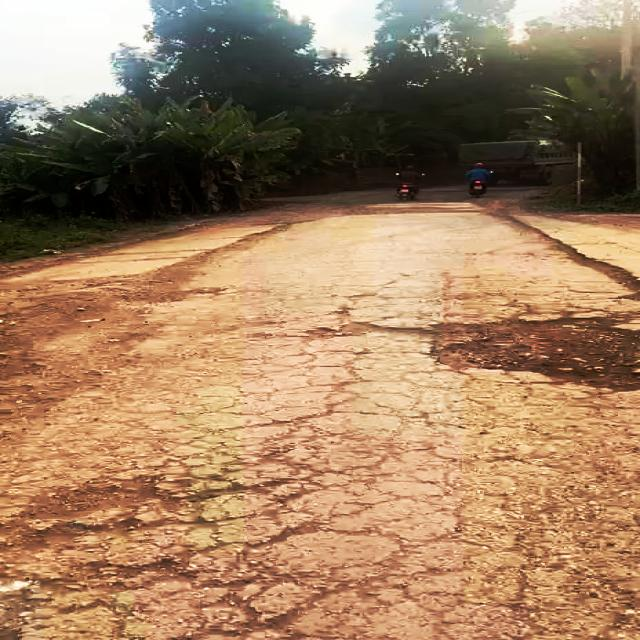pothole: (0, 468, 257, 544), (411, 311, 640, 392)
